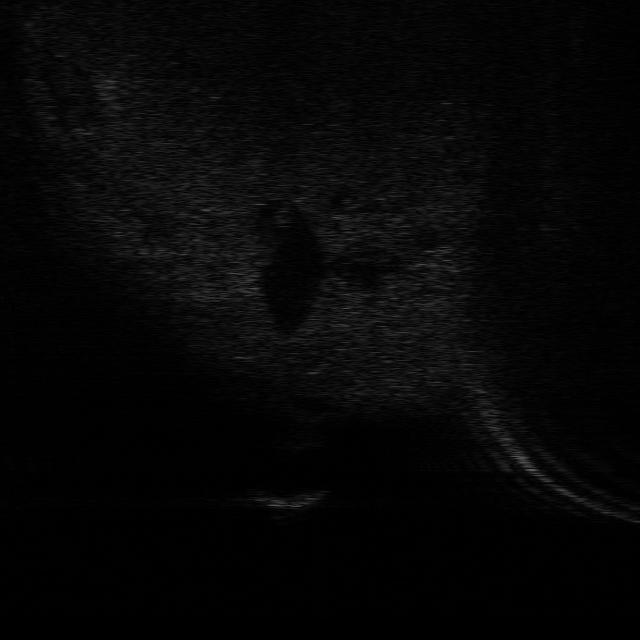cube: (240, 490, 329, 519)
